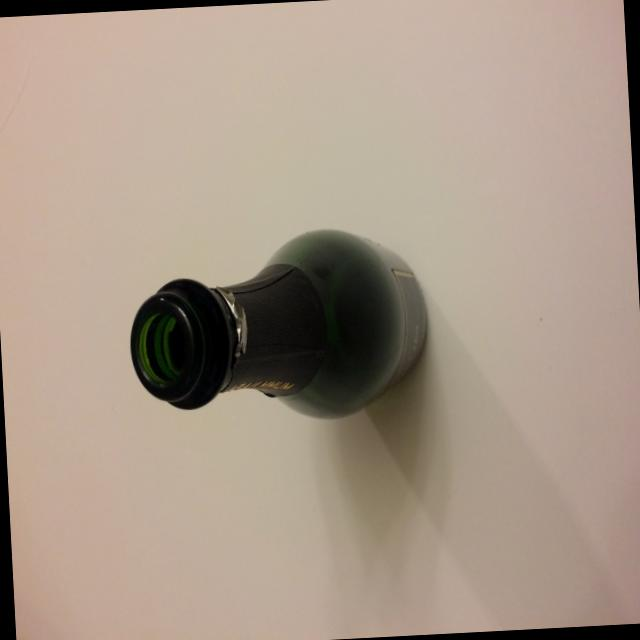Glass: (109, 208, 450, 450)
